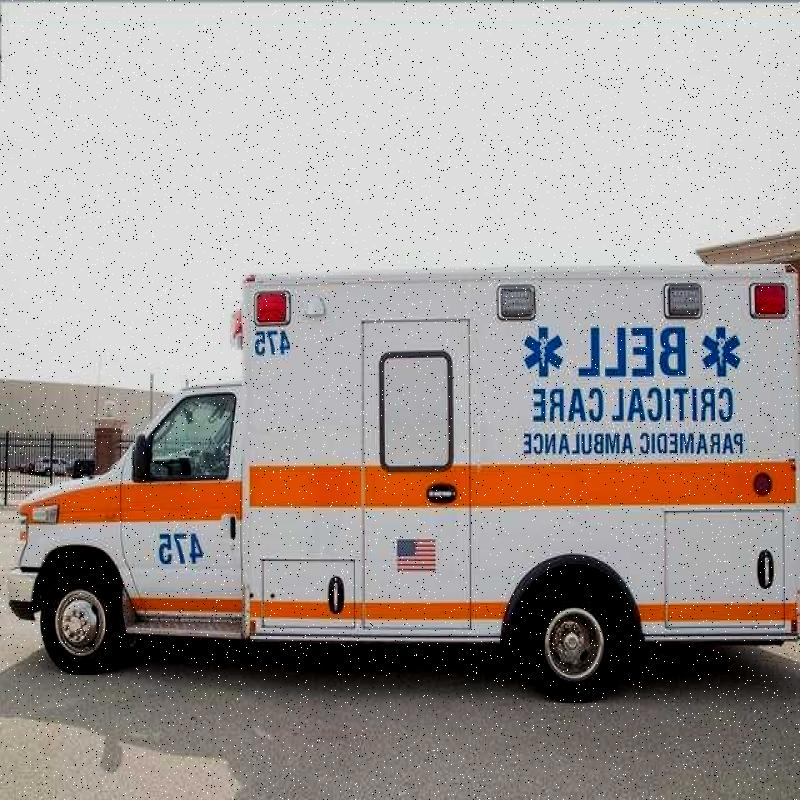ambulance: (26, 254, 800, 714)
